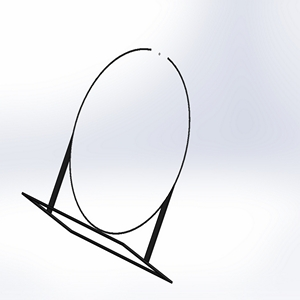circle: (20, 44, 190, 285)
